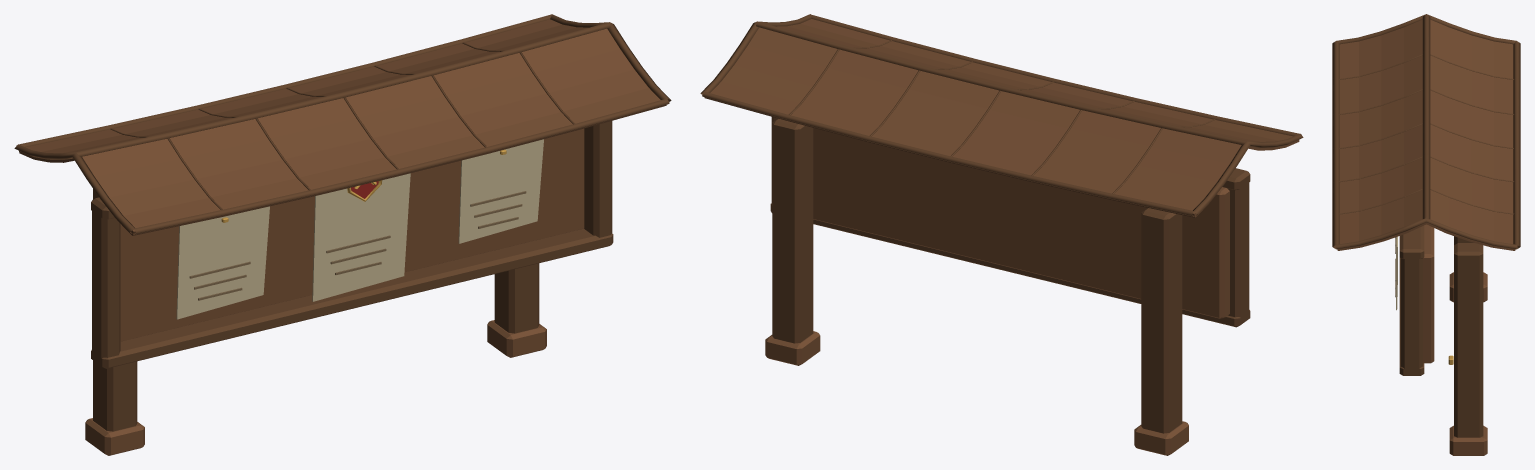
The model's file is board.glb.
3 renders of one model, left to right at view 1: azimuth 30°, elevation 25°; view 2: azimuth 150°, elevation 25°; view 3: azimuth 270°, elevation 25°, orthographic. The views are drawn at different scales.
Visible parts, largest first — view 1: board-signage; view 2: board-signage; view 3: board-signage.
Boxes of the visible parts, box(x1,y1,x2,y2) form: board-signage: box(14, 14, 671, 455); board-signage: box(700, 14, 1303, 455); board-signage: box(1332, 14, 1520, 455).
Bounding box in the file's own units: 3.37 × 1.95 × 1.29.
